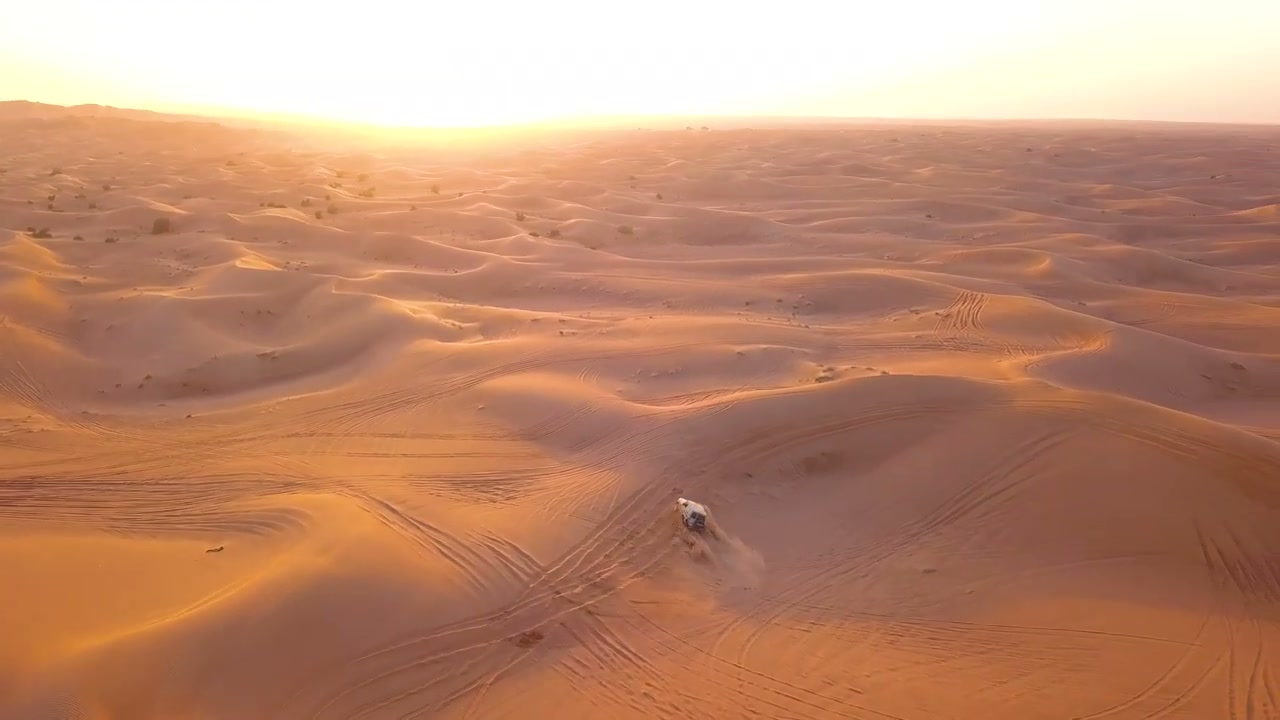vehicle_track: (304, 485, 672, 719), (713, 429, 1064, 664), (343, 483, 672, 685), (310, 566, 648, 717), (1074, 522, 1275, 719), (625, 608, 903, 719), (292, 346, 618, 436), (1019, 398, 1279, 490), (892, 427, 1070, 549), (535, 403, 730, 513), (0, 474, 306, 534), (794, 602, 1198, 647), (1072, 607, 1229, 719), (1197, 523, 1279, 719), (346, 490, 488, 593), (0, 425, 272, 478), (721, 404, 954, 465), (556, 608, 679, 716), (0, 359, 147, 440), (931, 291, 1043, 358), (1024, 328, 1113, 370), (833, 333, 990, 355), (518, 402, 598, 442), (637, 384, 776, 407), (934, 291, 986, 337), (1119, 302, 1176, 326)
